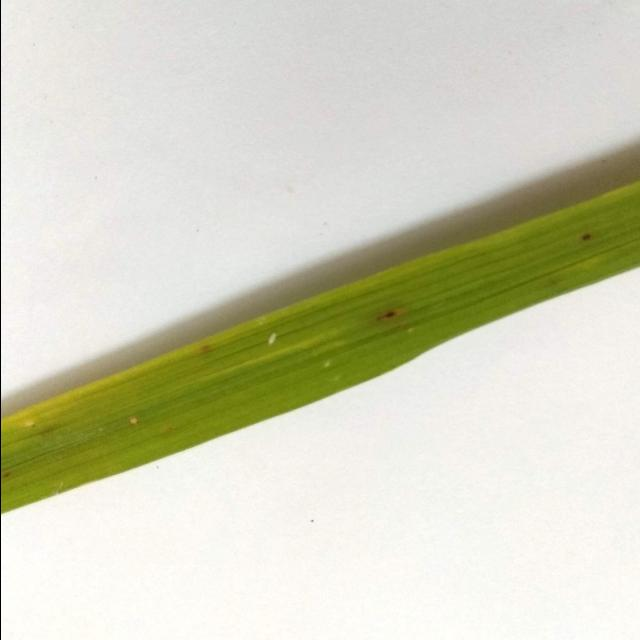Brown spot: (0, 110, 640, 560), (569, 220, 612, 256), (373, 298, 416, 332)
